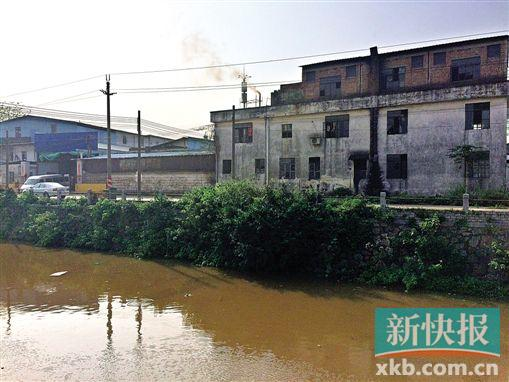dust: (212, 58, 266, 97)
